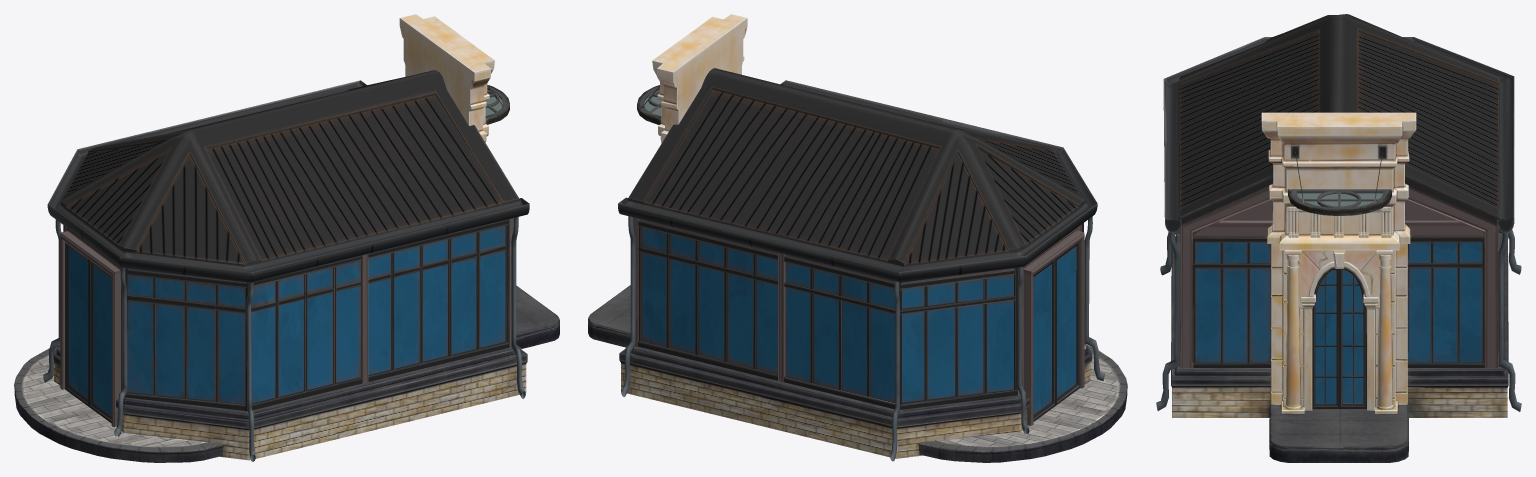
The model's file is Park House.fbx.
The picture shows the model from 3 angles, left to right: view 1: azimuth 30°, elevation 25°; view 2: azimuth 150°, elevation 25°; view 3: azimuth 270°, elevation 25°; orthographic projection. The views are drawn at different scales.
Visible parts, largest first — view 1: building_House; view 2: building_House; view 3: building_House.
Part boxes in pixels (left/top/right/bottom): building_House: left=14, top=14, right=559, bottom=462; building_House: left=588, top=14, right=1127, bottom=462; building_House: left=1156, top=14, right=1521, bottom=462.
Bounding box in the file's own units: 980 × 549 × 603.
